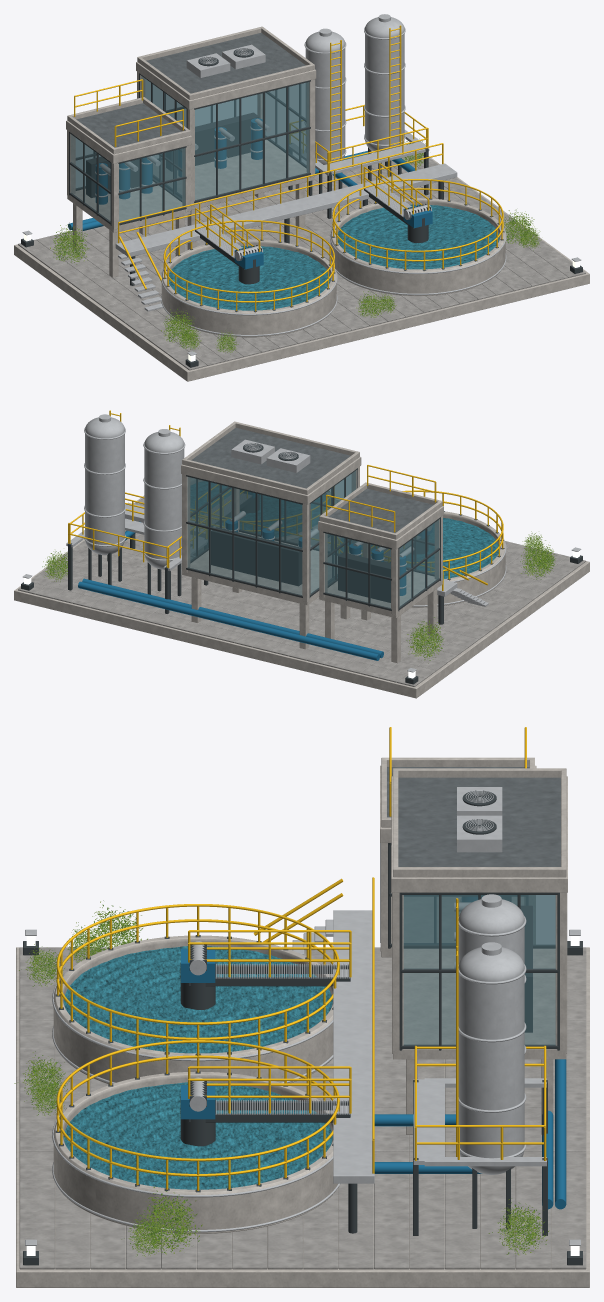
The model's file is planta_potabilizadora.fbx.
3 renders of one model, top to bottom at view 1: azimuth 30°, elevation 25°; view 2: azimuth 150°, elevation 25°; view 3: azimuth 270°, elevation 25°, orthographic. The views are drawn at different scales.
Parts seen in each view (by area): view 1: Solar · Loseta mineral, Sala de control · Cristal de control, Sala de control · Prefabricado caliza, Batería de filtros a presión · Inox cepillado, Pabellón oeste · Prefabricado caliza, Solar · Prefabricado caliza, Clarificador 1 · Agua de clarificación, Clarificador 2 · Agua de clarificación, Pabellón oeste · Cristal de control, Clarificador 2 · Prefabricado caliza, Clarificador 1 · Prefabricado caliza, Galería de enlace · Inox cepillado (+21 smaller); view 2: Solar · Loseta mineral, Sala de control · Cristal de control, Batería de filtros a presión · Inox cepillado, Sala de control · Prefabricado caliza, Pabellón oeste · Prefabricado caliza, Solar · Prefabricado caliza, Sala de control · Perfilería antracita, Pabellón oeste · Cristal de control, Pabellón oeste · Perfilería antracita, Sala de control · Membrana bituminosa, Batería de filtros a presión · Tubería esmaltada, Clarificador 1 · Agua de clarificación (+15 smaller); view 3: Solar · Loseta mineral, Batería de filtros a presión · Inox cepillado, Sala de control · Prefabricado caliza, Clarificador 2 · Agua de clarificación, Clarificador 1 · Agua de clarificación, Solar · Prefabricado caliza, Clarificador 2 · Prefabricado caliza, Sala de control · Cristal de control, Sala de control · Membrana bituminosa, Galería de enlace · Inox cepillado, Clarificador 1 · Prefabricado caliza, Clarificador 2 · Amarillo de pasarelas (+22 smaller).
Boxes of the visible parts, x1,y1,x2,y2 form: Solar · Loseta mineral: (18, 153, 585, 370); Sala de control · Cristal de control: (141, 76, 309, 200); Sala de control · Prefabricado caliza: (136, 26, 316, 249); Batería de filtros a presión · Inox cepillado: (290, 14, 429, 175); Pabellón oeste · Prefabricado caliza: (66, 97, 191, 277); Solar · Prefabricado caliza: (14, 152, 589, 381); Clarificador 1 · Agua de clarificación: (169, 245, 330, 310); Clarificador 2 · Agua de clarificación: (337, 204, 499, 269); Pabellón oeste · Cristal de control: (70, 134, 185, 221); Clarificador 2 · Prefabricado caliza: (330, 198, 505, 296); Clarificador 1 · Prefabricado caliza: (161, 239, 336, 337); Galería de enlace · Inox cepillado: (115, 163, 457, 311); Solar · Loseta mineral: (18, 498, 585, 686); Sala de control · Cristal de control: (187, 470, 356, 595); Batería de filtros a presión · Inox cepillado: (66, 414, 207, 570); Sala de control · Prefabricado caliza: (181, 421, 361, 649); Pabellón oeste · Prefabricado caliza: (318, 482, 443, 663); Solar · Prefabricado caliza: (14, 495, 589, 698); Sala de control · Perfilería antracita: (186, 443, 357, 597); Pabellón oeste · Cristal de control: (325, 520, 439, 608); Pabellón oeste · Perfilería antracita: (323, 517, 440, 611); Sala de control · Membrana bituminosa: (191, 427, 350, 488); Batería de filtros a presión · Tubería esmaltada: (78, 521, 383, 660); Clarificador 1 · Agua de clarificación: (337, 518, 498, 578); Solar · Loseta mineral: (19, 947, 586, 1269); Batería de filtros a presión · Inox cepillado: (413, 894, 546, 1174); Sala de control · Prefabricado caliza: (391, 768, 567, 1134); Clarificador 2 · Agua de clarificación: (63, 1082, 332, 1189); Clarificador 1 · Agua de clarificación: (63, 946, 332, 1053); Solar · Prefabricado caliza: (16, 947, 589, 1287); Clarificador 2 · Prefabricado caliza: (53, 1071, 338, 1233); Sala de control · Cristal de control: (403, 895, 555, 1045); Sala de control · Membrana bituminosa: (398, 777, 560, 866); Galería de enlace · Inox cepillado: (282, 910, 374, 1183); Clarificador 1 · Prefabricado caliza: (53, 935, 333, 1084); Clarificador 2 · Amarillo de pasarelas: (56, 1040, 351, 1190).
Size of the model in its own units: 15.4 by 6.57 by 11.54.
14 materials, 5 textured.
